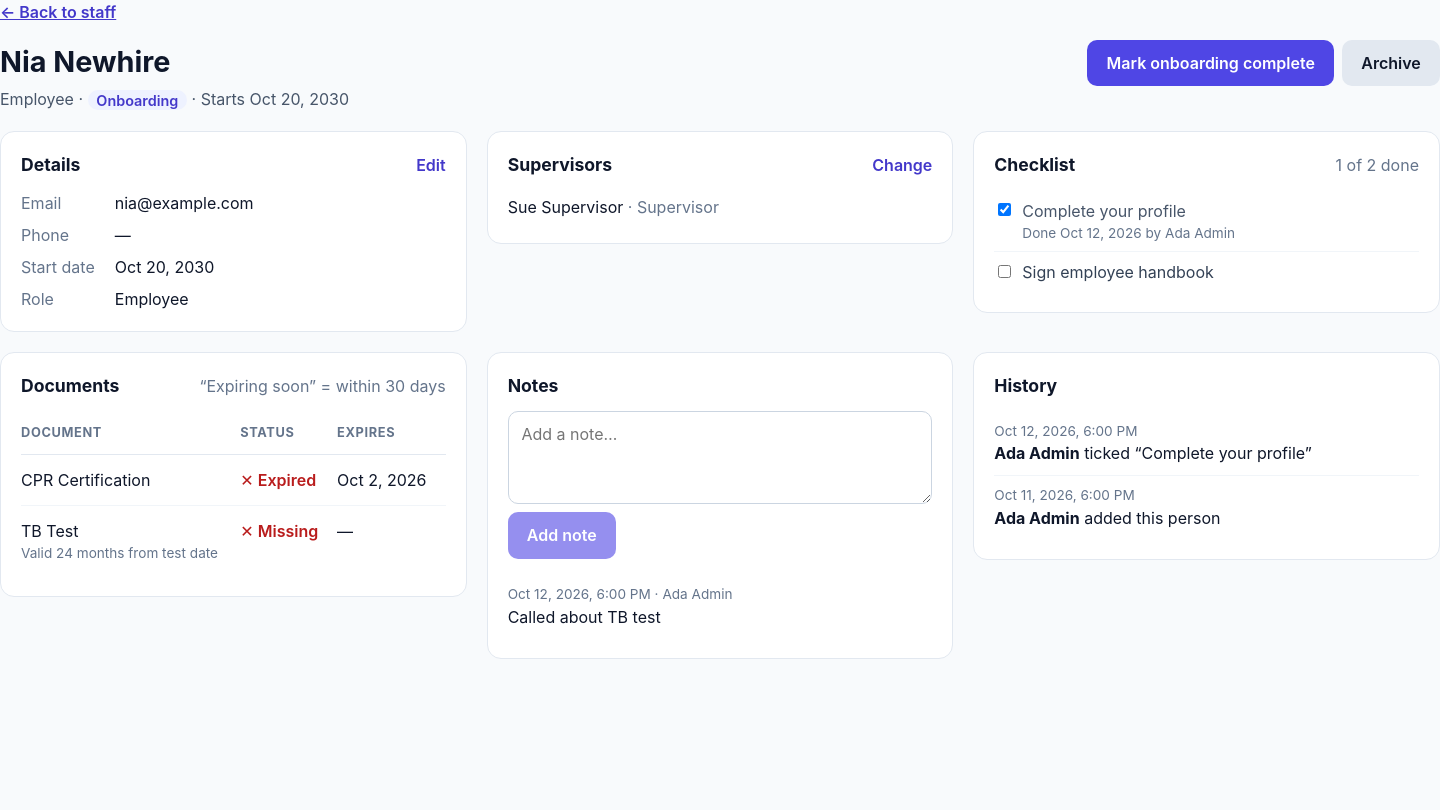
PersonPage › admin actions › asks before archiving, and can be cancelled
Click the button "Archive" at (1391, 63), box [1342,40,1439,86]
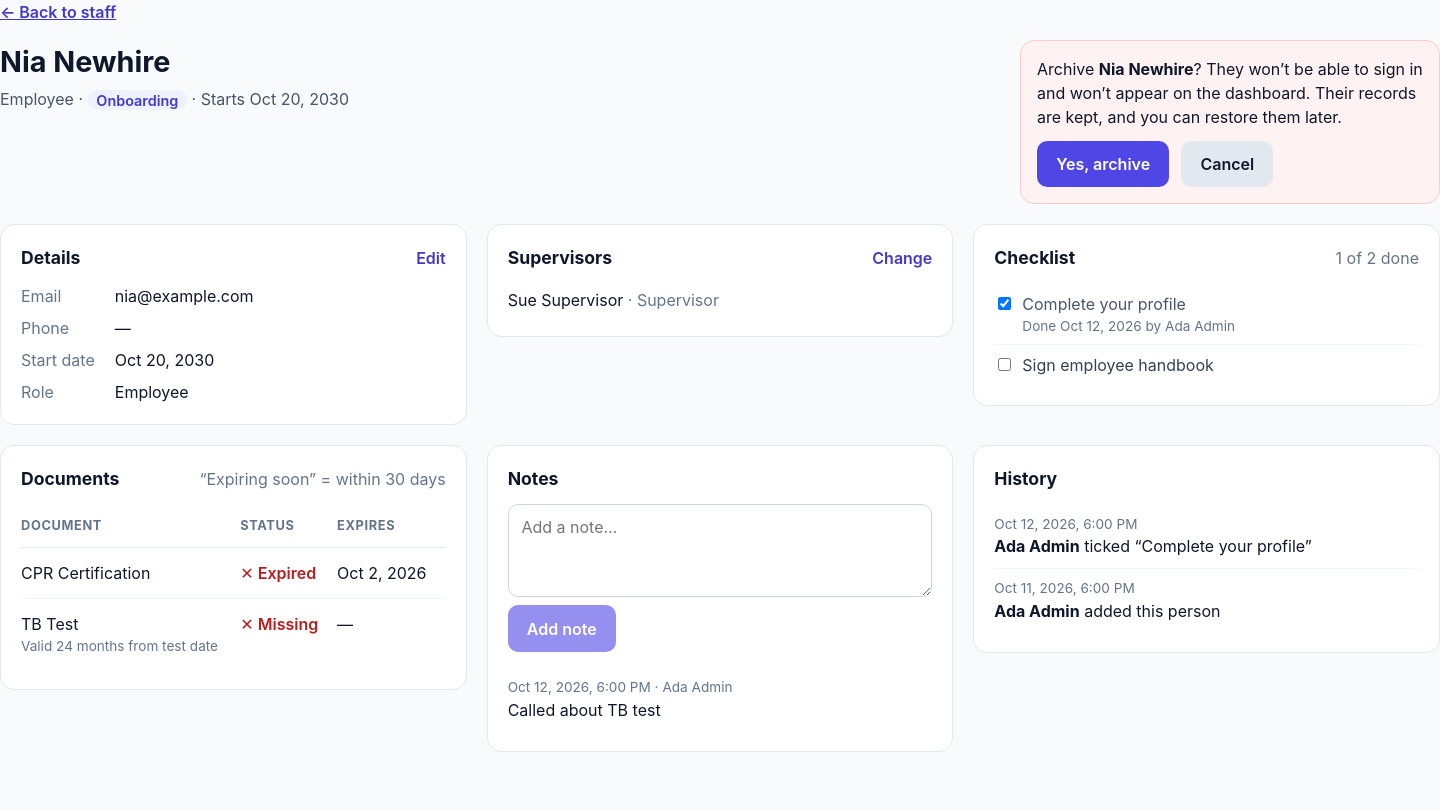
Expected: the dialog shows "Archive Nia Newhire?", [1020,40,1439,204]
Click the button "Cancel" at (1227, 164), box [1181,141,1273,187]
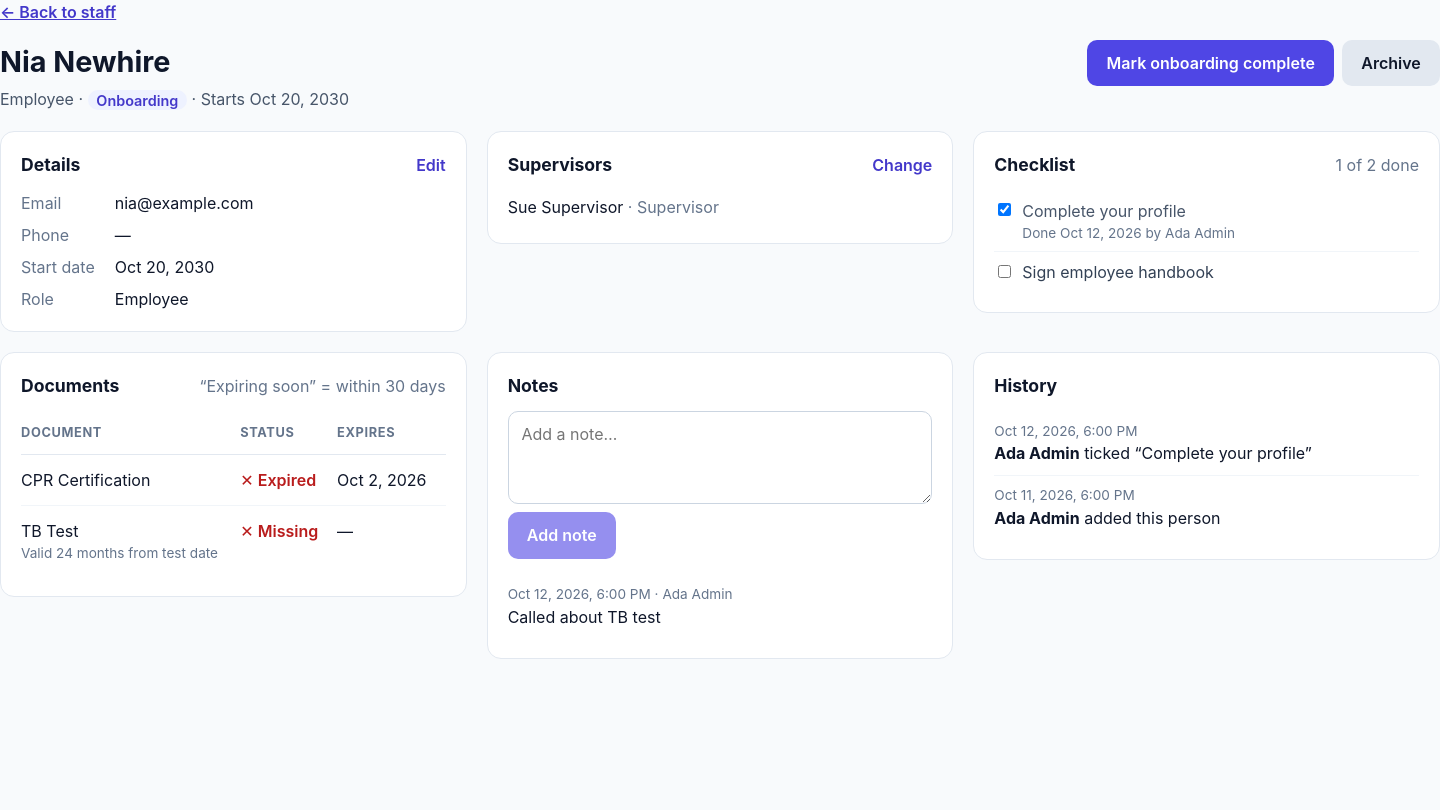
Click the button "Archive" at (1391, 63), box [1342,40,1439,86]
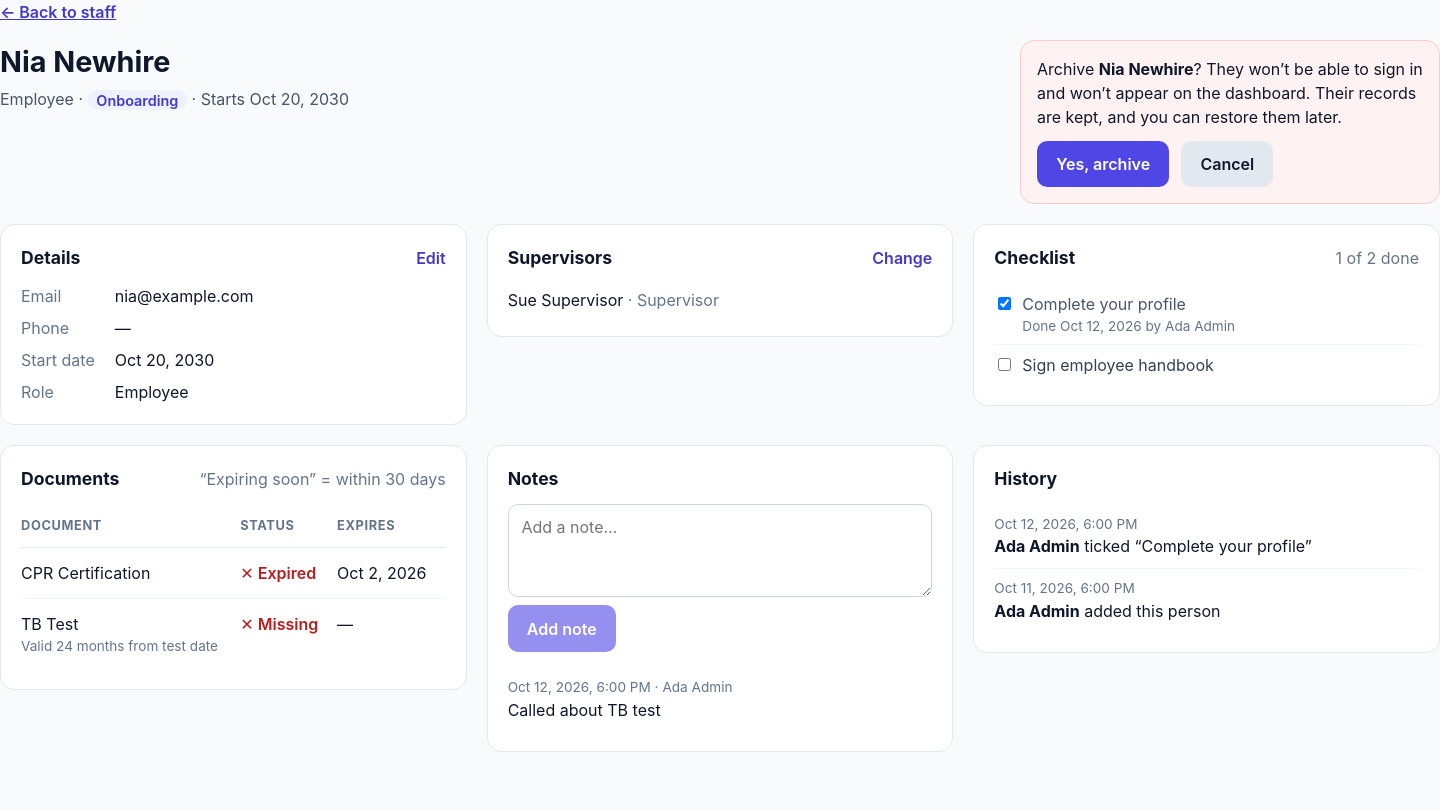
Click the button "Yes, archive" at (1103, 164), box [1037,141,1169,187]
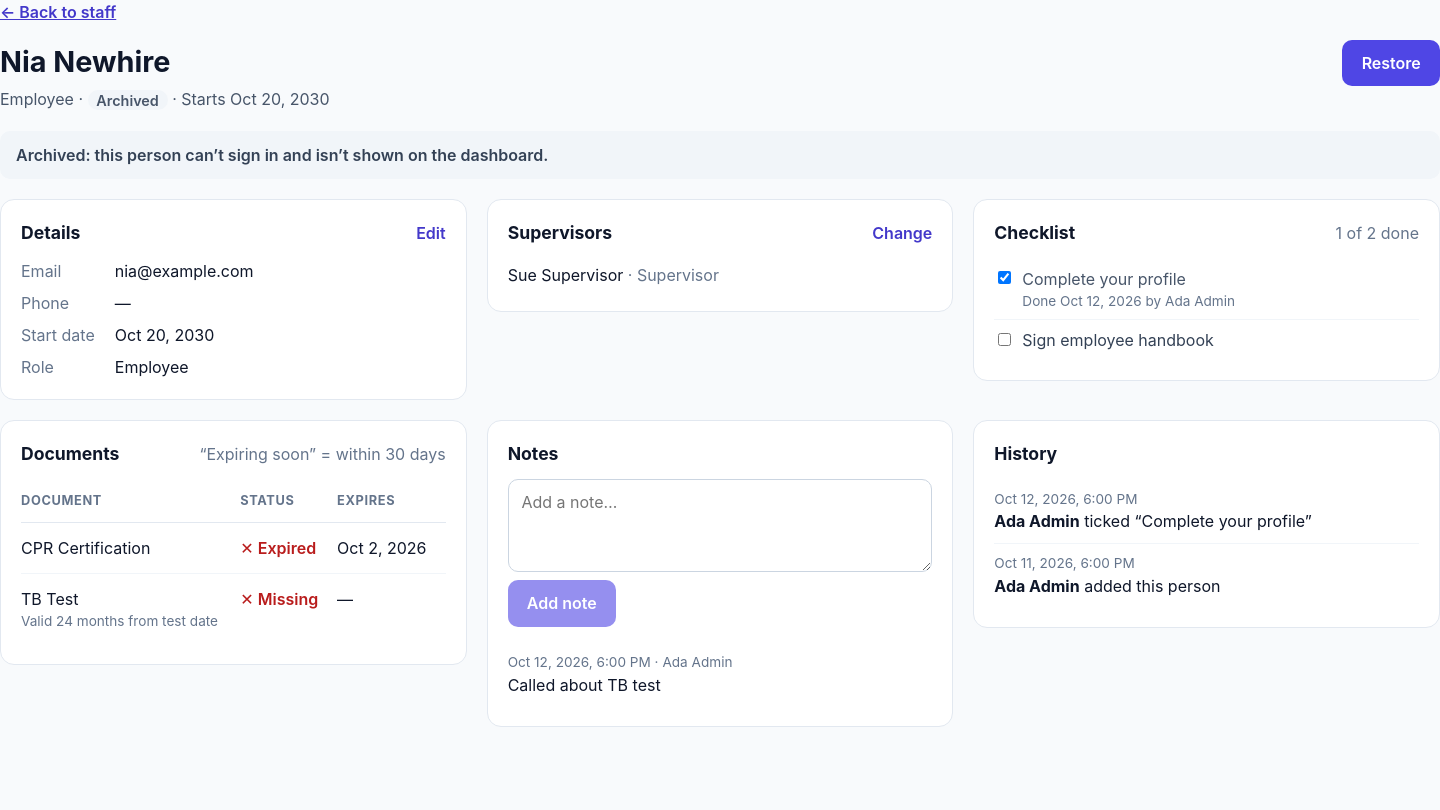
Expected: the button "Restore" is shown, [1342,40,1439,86]
Expected: the text "can’t sign in and isn’t shown on the dashboard" is shown, [16,145,548,165]
